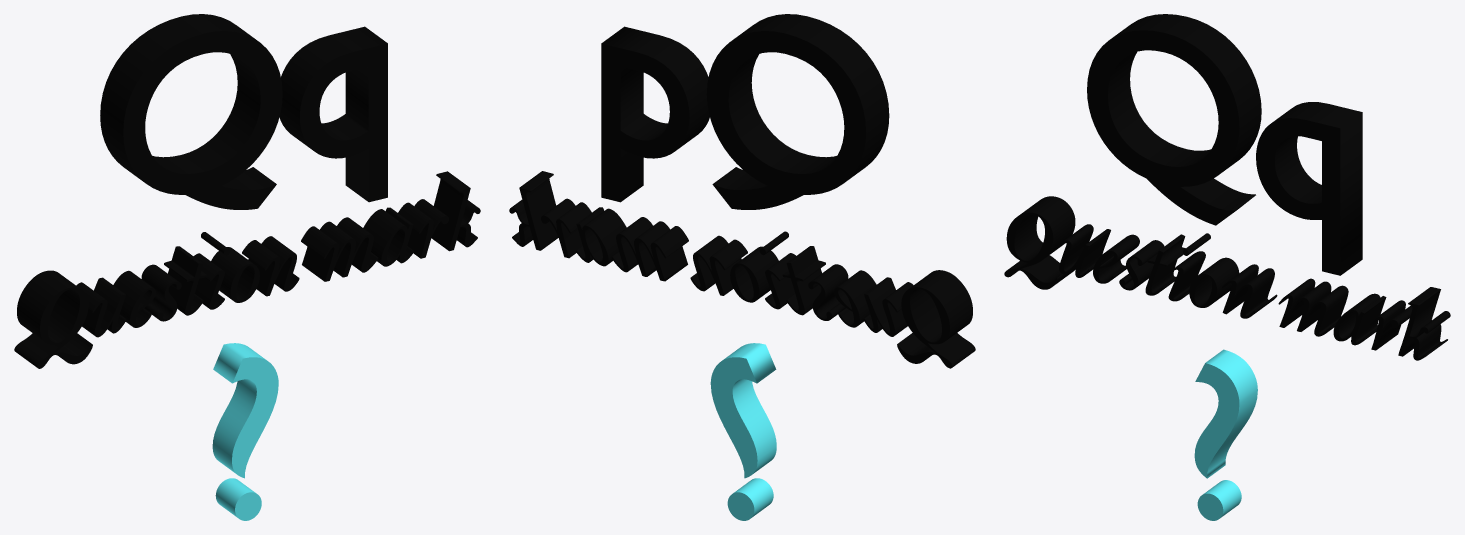
Rendered from Letter_Q.glb.
The picture shows the model from 3 angles, left to right: view 1: azimuth 30°, elevation 25°; view 2: azimuth 150°, elevation 25°; view 3: azimuth 330°, elevation 25°; orthographic projection. The views are drawn at different scales.
Visible parts, largest first — view 1: Text, Text.001, Text.002; view 2: Text, Text.001, Text.002; view 3: Text, Text.001, Text.002.
Part boxes in pixels (bbox=[...]): Text: bbox=[100, 14, 387, 209]; Text.001: bbox=[14, 171, 480, 368]; Text.002: bbox=[212, 343, 278, 520]; Text: bbox=[601, 14, 889, 209]; Text.001: bbox=[509, 171, 975, 368]; Text.002: bbox=[710, 343, 776, 520]; Text: bbox=[1087, 14, 1362, 275]; Text.001: bbox=[1004, 196, 1450, 360]; Text.002: bbox=[1194, 349, 1257, 520].
Bounding box in the file's own units: 1.33 × 1.43 × 0.1214.
